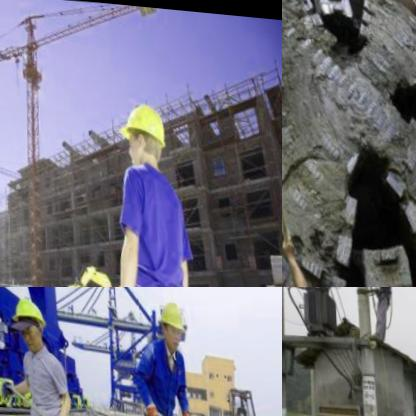helmet: (119, 91, 169, 172), (9, 290, 47, 351), (154, 288, 190, 350)
